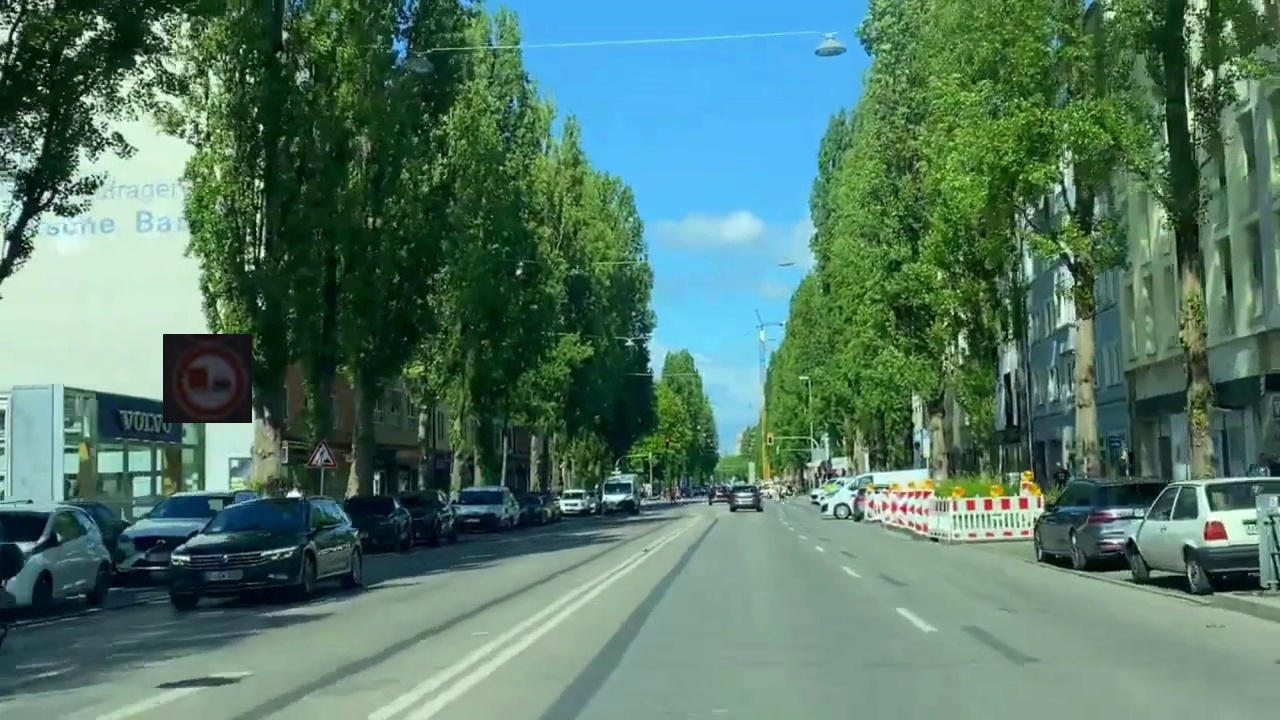No pass >3.5t: (163, 334, 252, 423)
